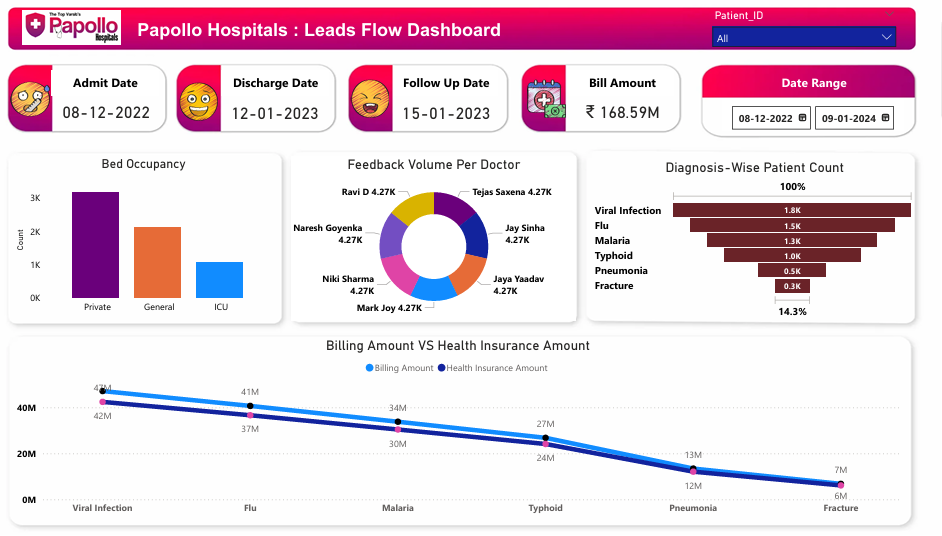

The dashboard page shown, as its layout file describes it:
{"tool":"powerbi","page":{"name":"Home","canvas":[1280,720],"ordinal":0},"visuals":[{"type":"image","box":[33.3,103.3,62.2,67.8],"z":0},{"type":"image","box":[257.8,106.7,62.2,67],"z":1000},{"type":"image","box":[486.7,103.3,62.2,67.8],"z":2000},{"type":"image","box":[722.2,103.3,62.2,66.7],"z":3000},{"type":"image","box":[16.7,14.4,204.4,55.6],"z":4000},{"type":"textbox","box":[202.2,25.6,520,44.4],"z":5000},{"type":"funnel","title":"Diagnosis-Wise Patient Count","fields":{"Category":["Sheet1.Diagnosis"],"Y":["Sheet1.Patient_ID"]},"box":[812.2,214.4,436.7,218.9],"z":6000},{"type":"donutChart","title":"Feedback Volume Per Doctor","fields":{"Y":["Sheet1.Feedback"],"Category":["Sheet1.Doctor"]},"box":[413.3,214.4,378.9,218.9],"z":7000},{"type":"clusteredColumnChart","title":"Bed Occupancy","fields":{"Category":["Sheet1.Bed_Occupancy"],"Y":["Sheet1.Patient_ID"]},"box":[41.1,214.4,348.9,218.9],"z":8000},{"type":"slicer","fields":{"Values":["Sheet1.Patient_ID"]},"box":[964.4,13.5,265,55.2],"z":9000},{"type":"card","fields":{"Values":["Sheet1.Admit_Date"]},"box":[97,138,137,34],"z":10000},{"type":"textbox","box":[93,99,143,34],"z":11000},{"type":"textbox","box":[320,99,143,34],"z":12000},{"type":"card","fields":{"Values":["Sheet1.Discharge_Date"]},"box":[325,138,131,37],"z":13000},{"type":"card","fields":{"Values":["Sheet1.Followup Date"]},"box":[549,138,140,36],"z":14000},{"type":"textbox","box":[549,99,140,34],"z":15000},{"type":"textbox","box":[784,99,140,34],"z":16000},{"type":"card","fields":{"Values":["Sheet1.Billing Amount"]},"box":[784,137,140,36],"z":17000},{"type":"textbox","box":[1031,99,157,34],"z":18000},{"type":"slicer","fields":{"Values":["Sheet1.Admit_Date"]},"box":[987,137,242,44],"z":19000},{"type":"lineChart","title":"Billing Amount  VS Health Insurance Amount","fields":{"Y":["Sheet1.Billing Amount","Sheet1.Health Insurance Amount"],"Category":["Sheet1.Diagnosis"]},"box":[41,455,1188,246],"z":19001}]}

Visuals, with their boxes in screenshot pixels (x1, y1, x2, y2), scaled from the page's 1280x720 canvas onto the 942x536 screenshot:
image: 25:77:70:127
image: 190:79:236:129
image: 358:77:404:127
image: 531:77:577:127
image: 12:11:163:52
textbox: 149:19:531:52
"Diagnosis-Wise Patient Count" funnel: 598:160:919:323
"Feedback Volume Per Doctor" donutChart: 304:160:583:323
"Bed Occupancy" clusteredColumnChart: 30:160:287:323
slicer - Sheet1.Patient_ID: 710:10:905:51
card - Sheet1.Admit_Date: 71:103:172:128
textbox: 68:74:174:99
textbox: 236:74:341:99
card - Sheet1.Discharge_Date: 239:103:336:130
card - Sheet1.Followup Date: 404:103:507:130
textbox: 404:74:507:99
textbox: 577:74:680:99
card - Sheet1.Billing Amount: 577:102:680:129
textbox: 759:74:874:99
slicer - Sheet1.Admit_Date: 726:102:904:135
"Billing Amount  VS Health Insurance Amount" lineChart: 30:339:904:522
